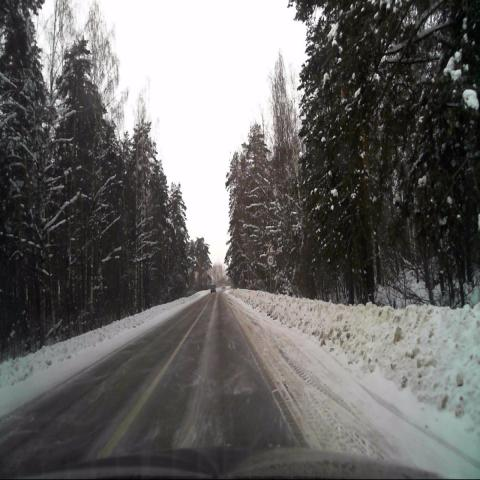1_11: (266, 242, 274, 255)
